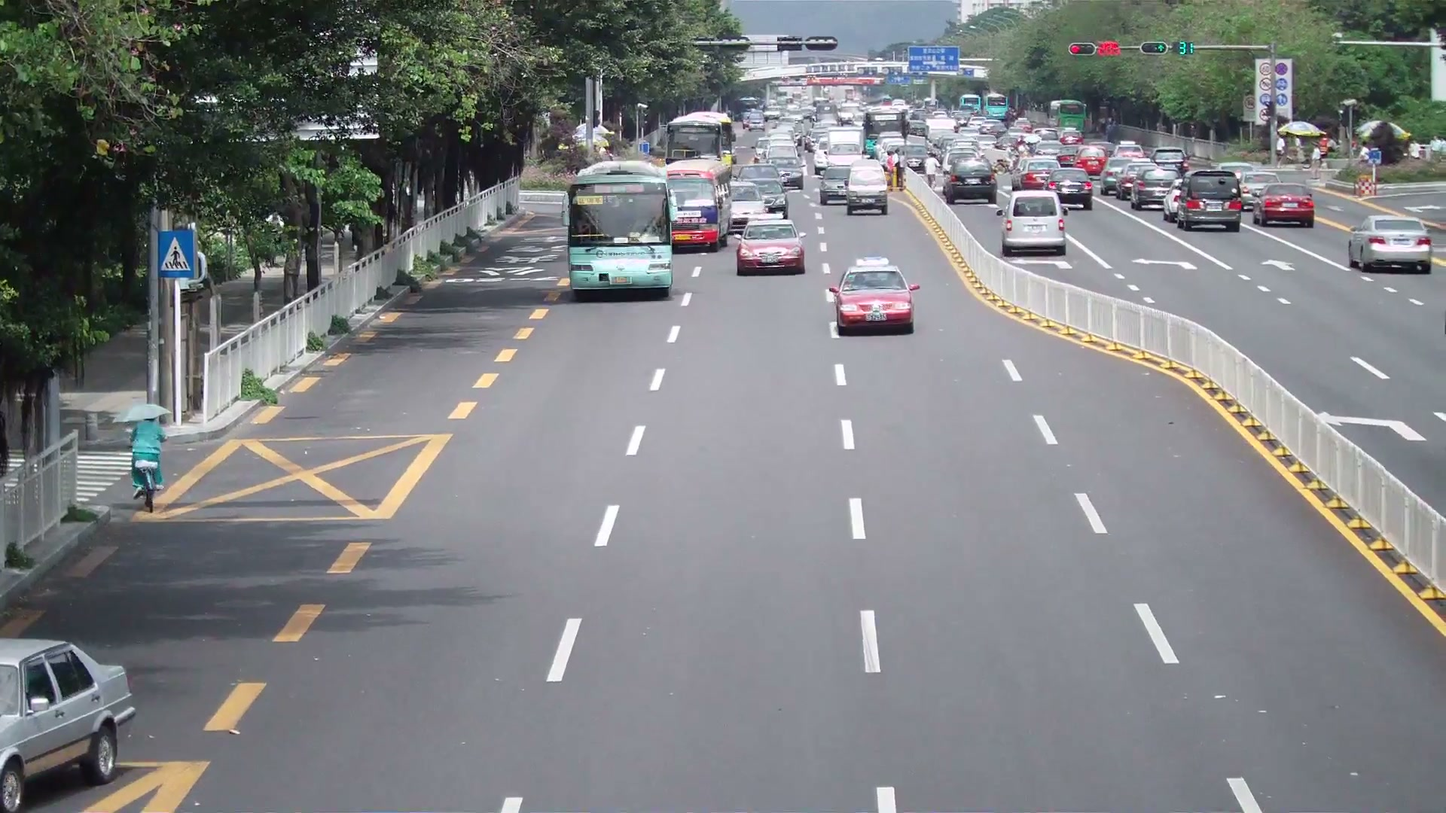bus: (566, 158, 674, 298), (666, 157, 733, 252), (661, 109, 738, 166)
car: (830, 258, 919, 335), (1346, 214, 1434, 273), (1164, 171, 1245, 232), (999, 187, 1067, 257), (734, 218, 806, 275), (725, 178, 787, 236), (1118, 165, 1174, 208), (1255, 188, 1315, 227), (942, 161, 996, 204), (845, 168, 888, 216), (1131, 170, 1172, 209)
truck: (0, 636, 137, 810)
